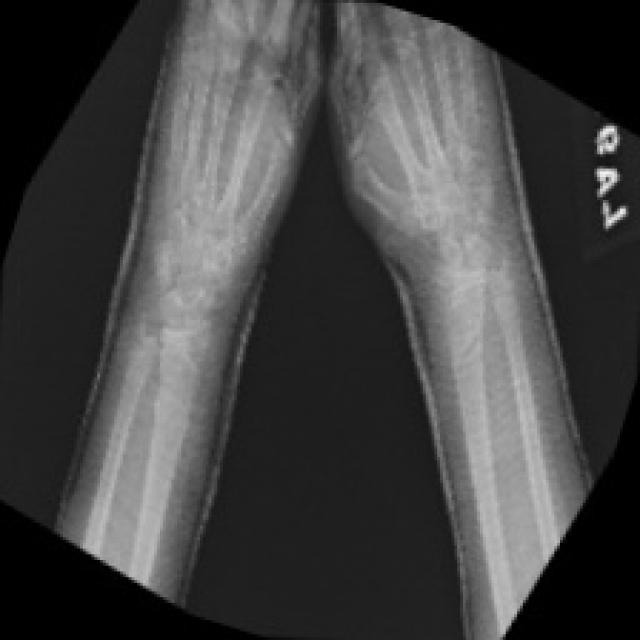fracture: (434, 329, 510, 402)
